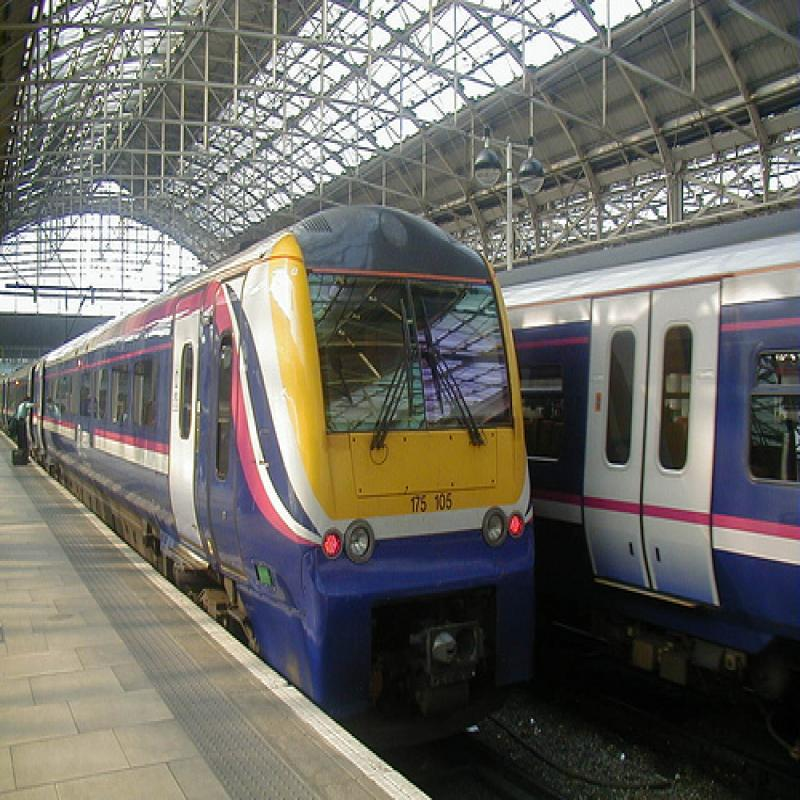train: (4, 208, 537, 754), (489, 231, 800, 769)
